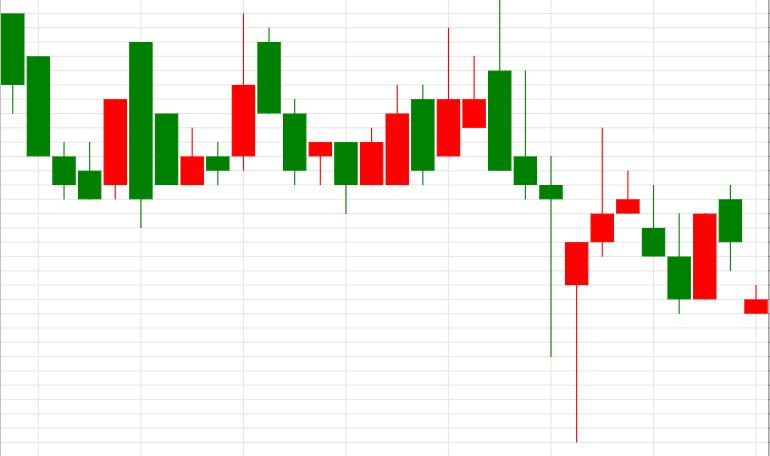hammer_rise: (489, 1, 588, 442)
